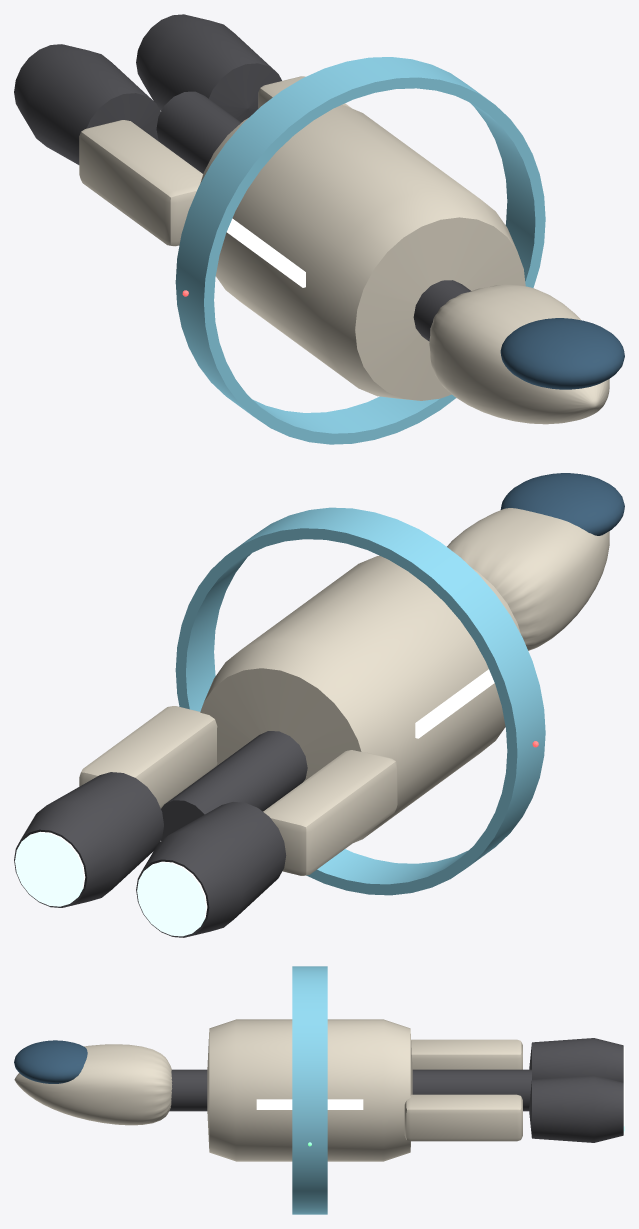
Rendered from ship_explorer.glb.
3 renders of one model, top to bottom at view 1: azimuth 30°, elevation 25°; view 2: azimuth 150°, elevation 25°; view 3: azimuth 270°, elevation 25°, orthographic. The views are drawn at different scales.
Parts seen in each view (by area): view 1: hull, canopy; view 2: hull, engine_glow, canopy; view 3: hull, canopy.
Part boxes in pixels (x1,y1,x2,y2): hull: [14, 14, 609, 444]; canopy: [500, 318, 624, 389]; hull: [14, 507, 609, 937]; engine_glow: [15, 831, 207, 936]; canopy: [500, 473, 624, 535]; hull: [14, 966, 623, 1214]; canopy: [14, 1040, 87, 1083].
Size of the model in its own units: 8.73 by 8.4 by 20.64.
